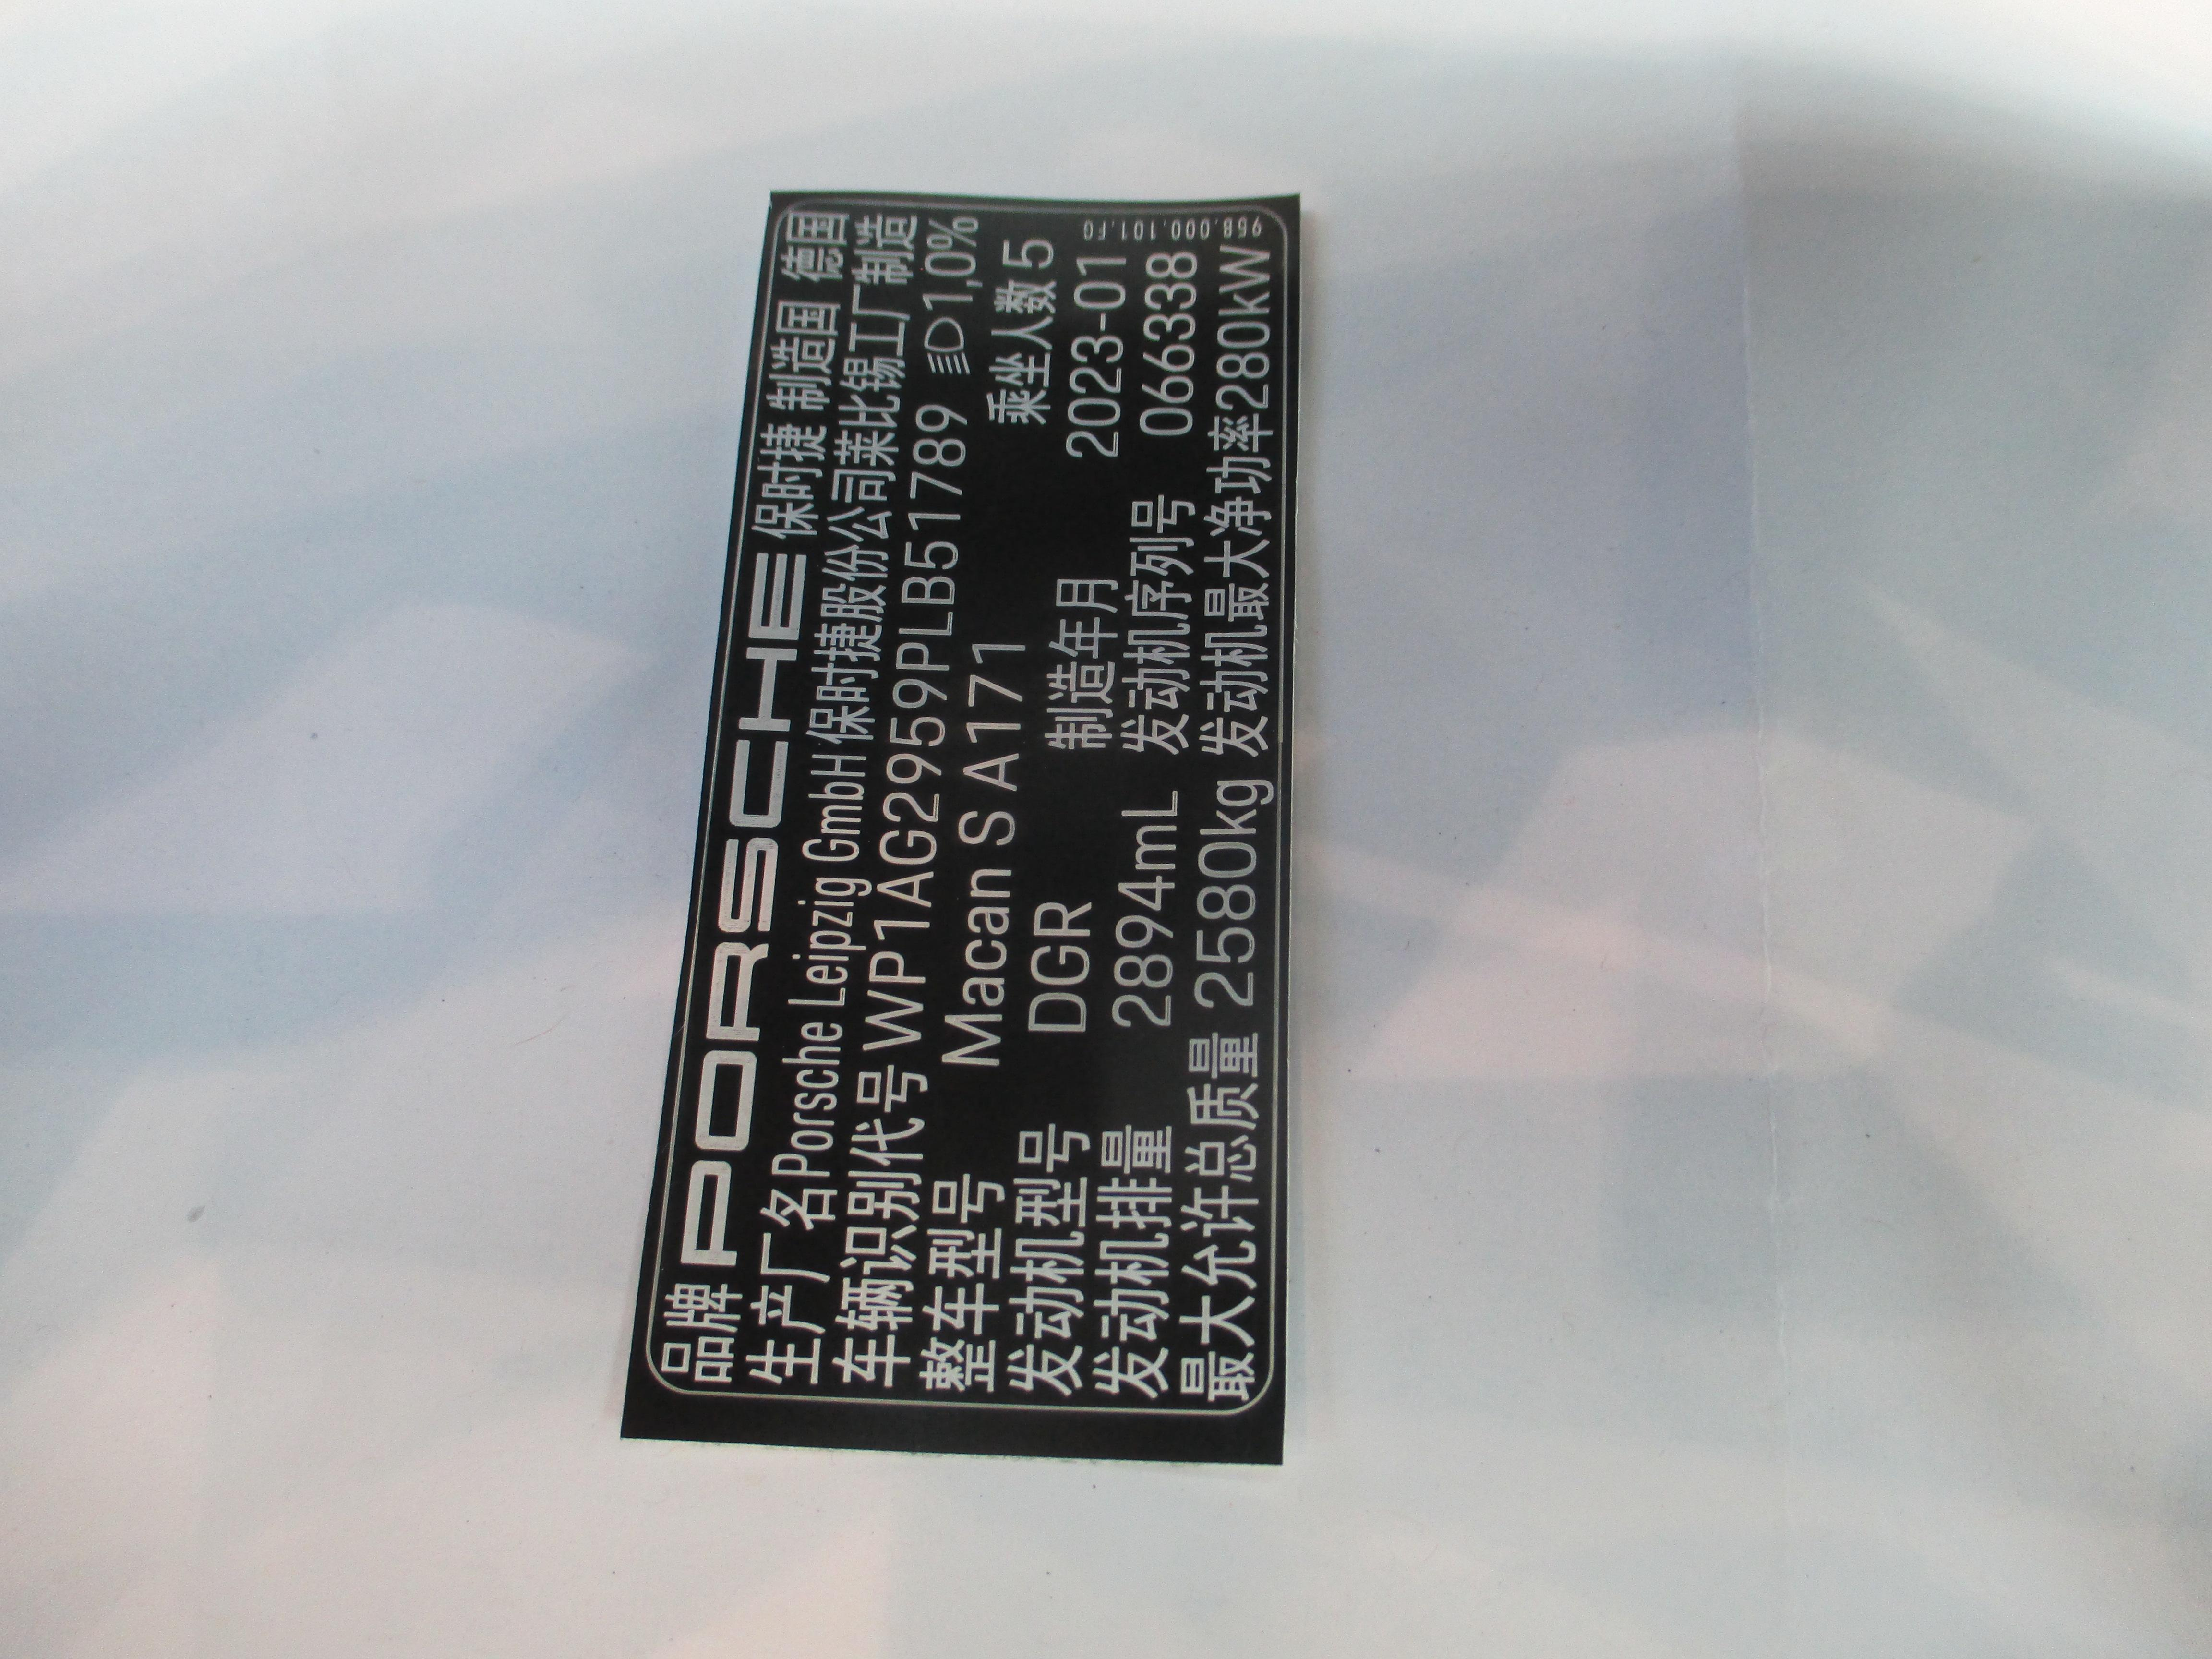Typlabel-China: (651, 204, 1282, 1408)
